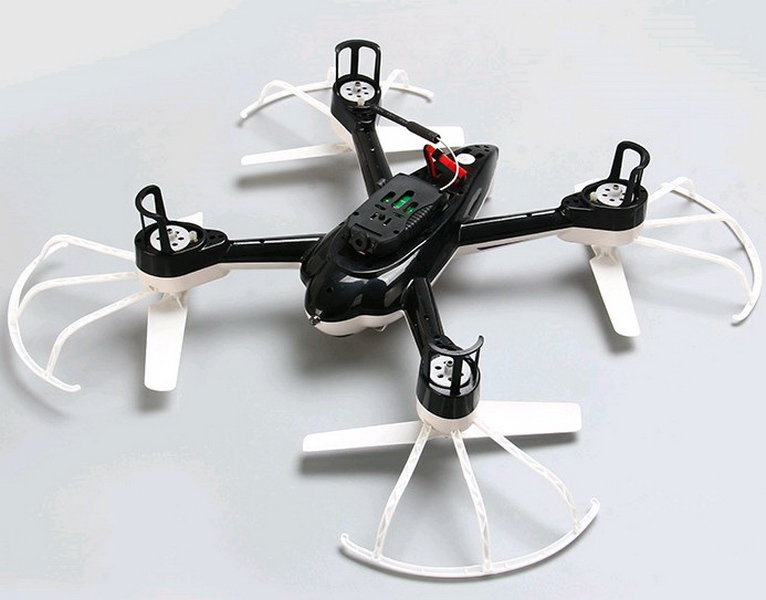drone: (5, 36, 764, 583)
